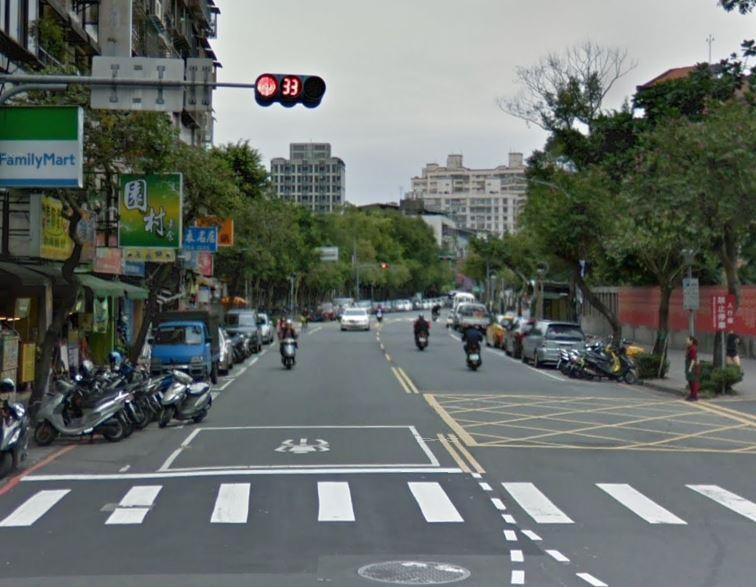red_traffic_light: (251, 71, 326, 108)
